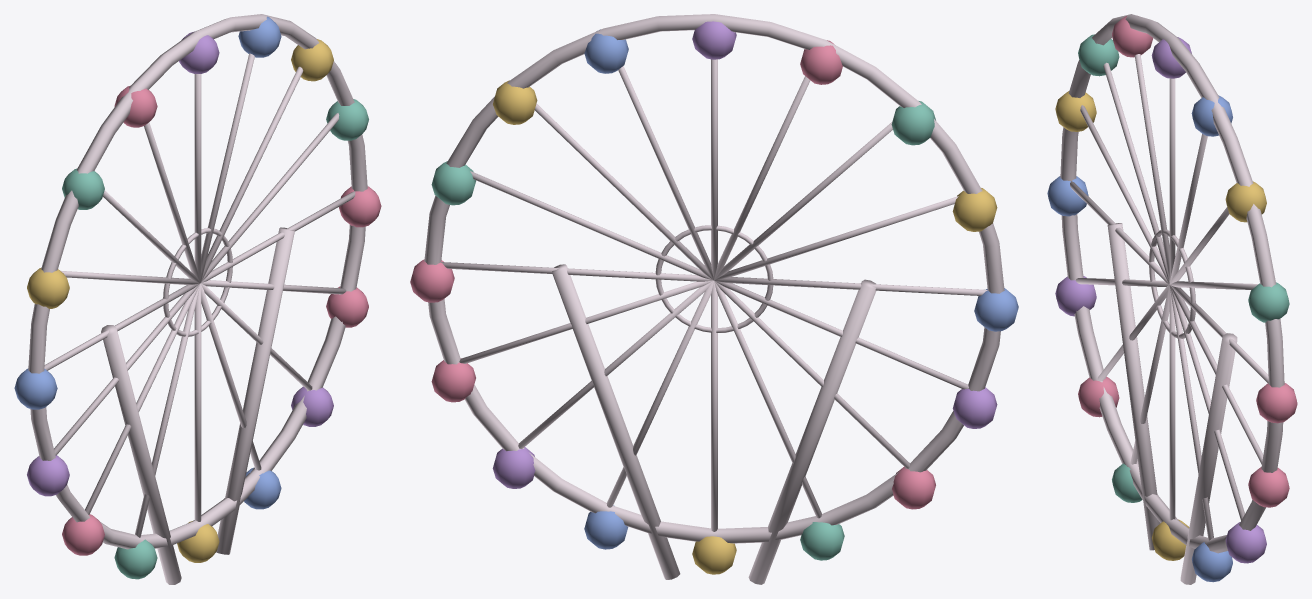
The model's file is FerrisWheel.fbx.
The picture shows the model from 3 angles, left to right: view 1: azimuth 30°, elevation 25°; view 2: azimuth 150°, elevation 25°; view 3: azimuth 270°, elevation 25°; orthographic projection. The views are drawn at different scales.
Parts seen in each view (by area): view 1: FerrisWheel; view 2: FerrisWheel; view 3: FerrisWheel.
Boxes of the visible parts, box(x1,y1,x2,y2) form: FerrisWheel: box(14, 14, 381, 584); FerrisWheel: box(410, 14, 1018, 584); FerrisWheel: box(1047, 14, 1297, 584).
Size of the model in its own units: 19.99 by 22.01 by 9.4.
